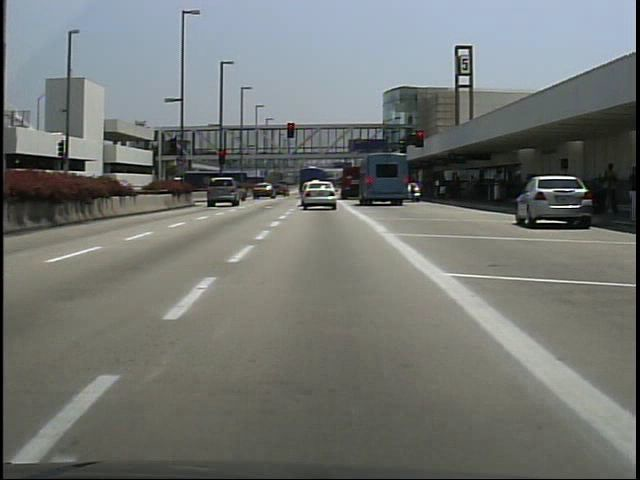person: (602, 165, 618, 215)
